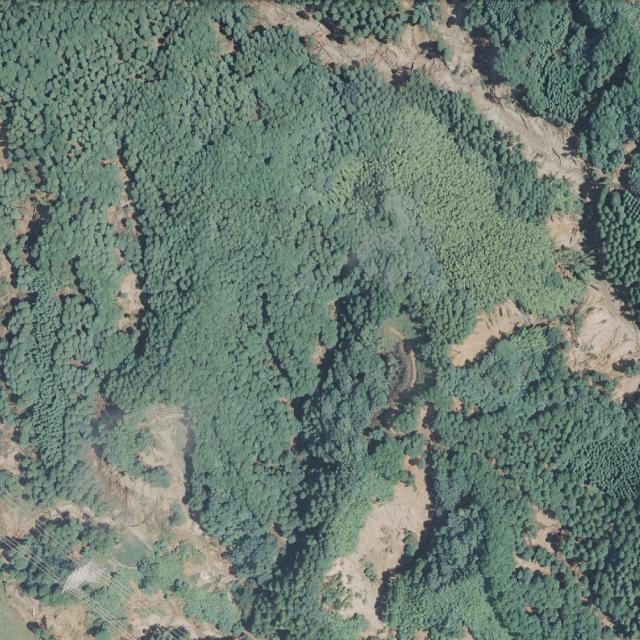landslide: (246, 0, 586, 194), (0, 422, 236, 596), (326, 456, 431, 640), (567, 280, 640, 402), (450, 299, 547, 367), (116, 584, 221, 640), (15, 599, 85, 640), (104, 155, 138, 239), (114, 271, 143, 330), (114, 272, 143, 331), (548, 213, 585, 250), (145, 404, 184, 434), (116, 250, 124, 264), (609, 330, 613, 333)
